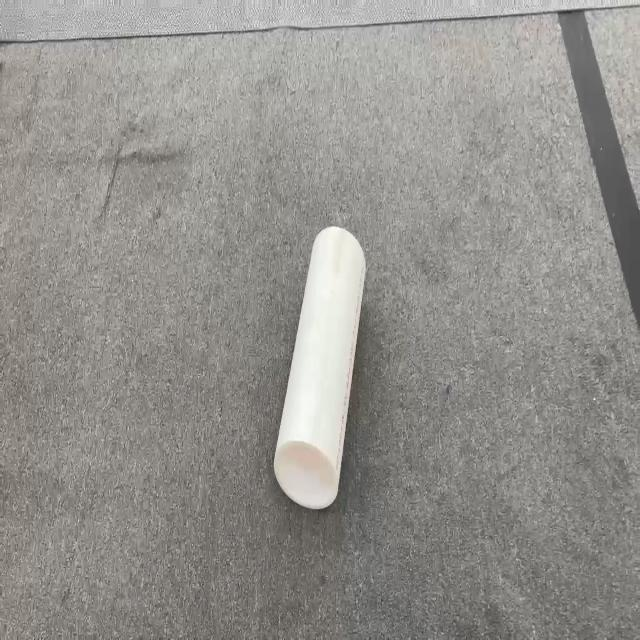coral: (272, 224, 366, 509)
